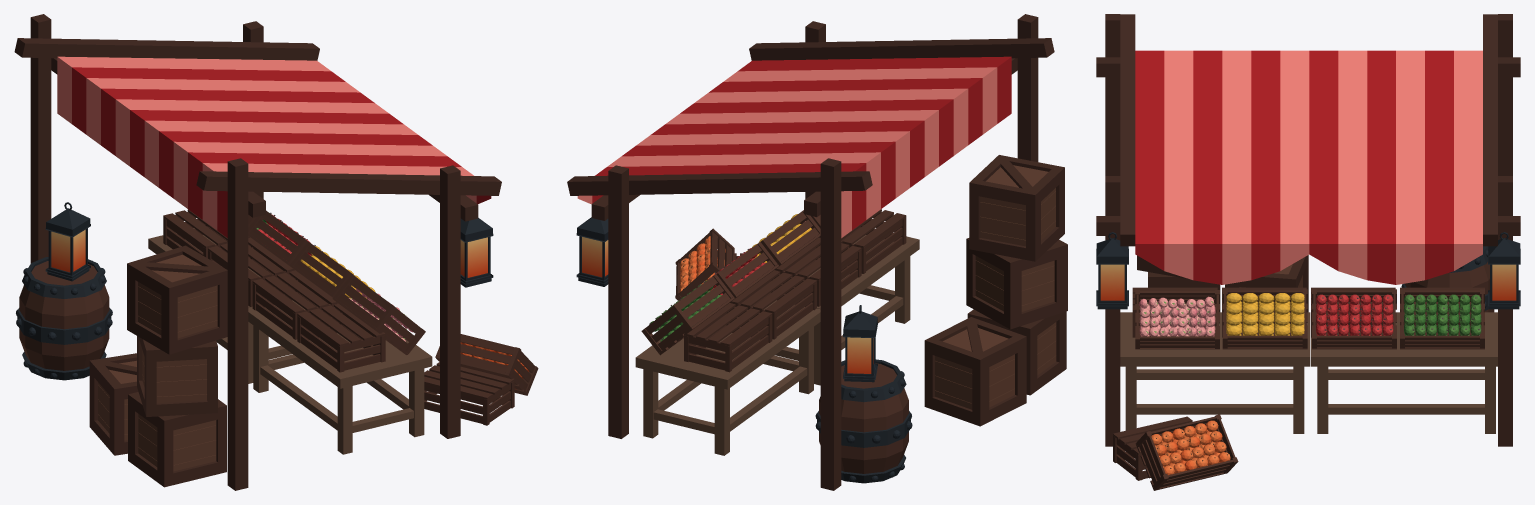
File: fruit_stall_filled.glb
The picture shows the model from 3 angles, left to right: view 1: azimuth 30°, elevation 25°; view 2: azimuth 150°, elevation 25°; view 3: azimuth 270°, elevation 25°; orthographic projection.
Visible parts, largest first — view 1: fruit_stall_filled_01, fruit_stall_filled_02, fruit_stall_filled_16, fruit_stall_filled_14, fruit_stall_filled_12, fruit_stall_filled_13, fruit_stall_filled_15, fruit_stall_filled_11, fruit_stall_filled_10, fruit_stall_filled_19, fruit_stall_filled_09, fruit_stall_filled_18 (+2 smaller); view 2: fruit_stall_filled_01, fruit_stall_filled_02, fruit_stall_filled_15, fruit_stall_filled_14, fruit_stall_filled_16, fruit_stall_filled_13, fruit_stall_filled_12, fruit_stall_filled_03, fruit_stall_filled_09, fruit_stall_filled_19, fruit_stall_filled_17, fruit_stall_filled_05 (+1 smaller); view 3: fruit_stall_filled_01, fruit_stall_filled_09, fruit_stall_filled_10, fruit_stall_filled_07, fruit_stall_filled_04, fruit_stall_filled_06, fruit_stall_filled_05, fruit_stall_filled_03, fruit_stall_filled_18, fruit_stall_filled_17, fruit_stall_filled_08, fruit_stall_filled_02 (+4 smaller).
Part boxes in pixels (x1,y1,x2,y2): fruit_stall_filled_01: [14, 14, 501, 490]; fruit_stall_filled_02: [163, 209, 385, 372]; fruit_stall_filled_16: [16, 257, 112, 380]; fruit_stall_filled_14: [127, 245, 227, 354]; fruit_stall_filled_12: [128, 392, 226, 487]; fruit_stall_filled_13: [137, 336, 217, 416]; fruit_stall_filled_15: [89, 353, 138, 455]; fruit_stall_filled_11: [424, 362, 514, 425]; fruit_stall_filled_10: [332, 275, 425, 354]; fruit_stall_filled_19: [45, 202, 90, 281]; fruit_stall_filled_09: [435, 334, 538, 395]; fruit_stall_filled_18: [460, 218, 493, 287]; fruit_stall_filled_01: [567, 14, 1054, 490]; fruit_stall_filled_02: [684, 209, 906, 372]; fruit_stall_filled_15: [924, 317, 1026, 426]; fruit_stall_filled_14: [969, 155, 1064, 261]; fruit_stall_filled_16: [815, 359, 912, 483]; fruit_stall_filled_13: [966, 238, 1067, 329]; fruit_stall_filled_12: [967, 309, 1066, 395]; fruit_stall_filled_03: [641, 274, 734, 355]; fruit_stall_filled_09: [675, 228, 734, 300]; fruit_stall_filled_19: [843, 305, 877, 382]; fruit_stall_filled_17: [576, 217, 608, 286]; fruit_stall_filled_05: [714, 242, 778, 300]; fruit_stall_filled_01: [1096, 14, 1520, 446]; fruit_stall_filled_09: [1135, 414, 1238, 490]; fruit_stall_filled_10: [1135, 290, 1219, 349]; fruit_stall_filled_07: [1226, 293, 1304, 335]; fruit_stall_filled_04: [1404, 294, 1481, 335]; fruit_stall_filled_06: [1316, 294, 1393, 335]; fruit_stall_filled_05: [1312, 289, 1396, 349]; fruit_stall_filled_03: [1400, 289, 1484, 349]; fruit_stall_filled_18: [1096, 232, 1128, 309]; fruit_stall_filled_17: [1488, 232, 1520, 309]; fruit_stall_filled_08: [1222, 289, 1307, 349]; fruit_stall_filled_02: [1132, 287, 1484, 337].
Size of the model in its own units: 2.13 by 1.68 by 2.
9 materials, 9 textured.
